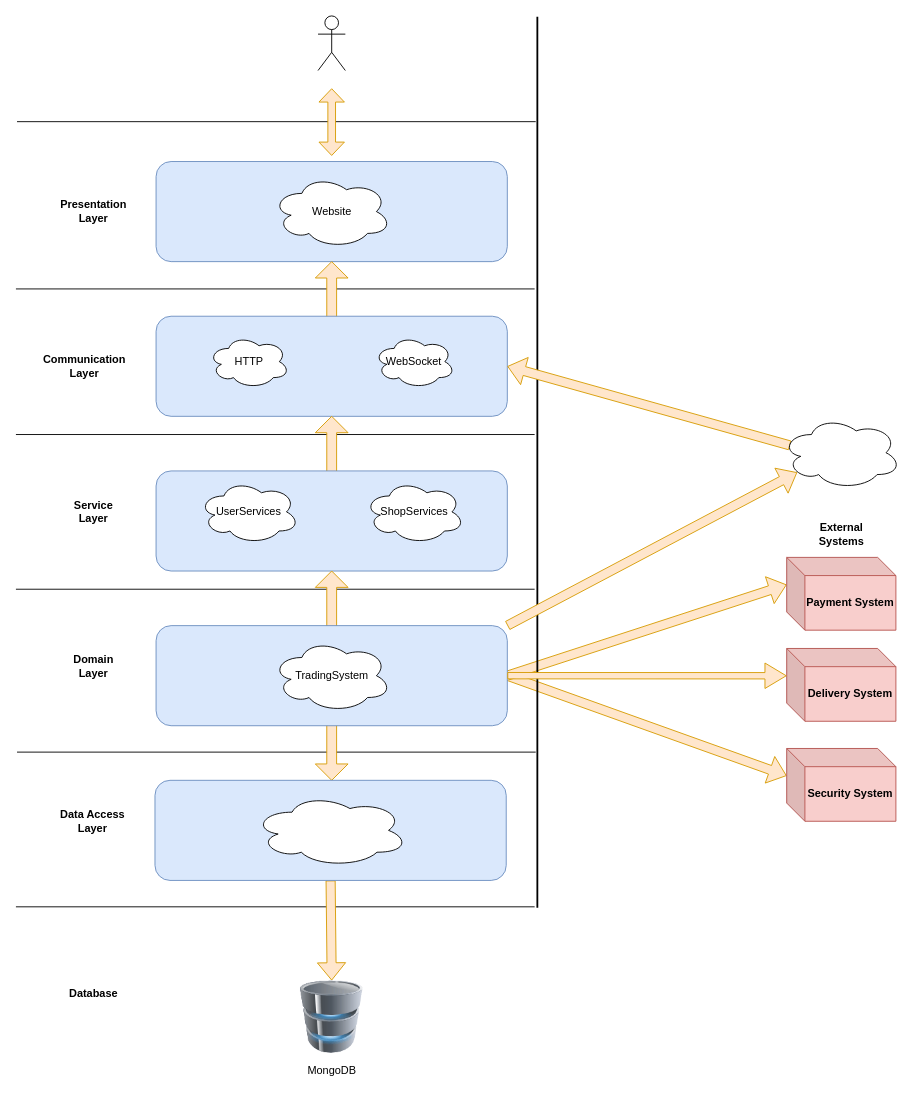
Some shapes in this 917 by 1096 pixel diagram are drawn without their labels. Each missing label, with the centre of its shape:
DataAccessMapper: point 330,830
Publisher: point 841,452
